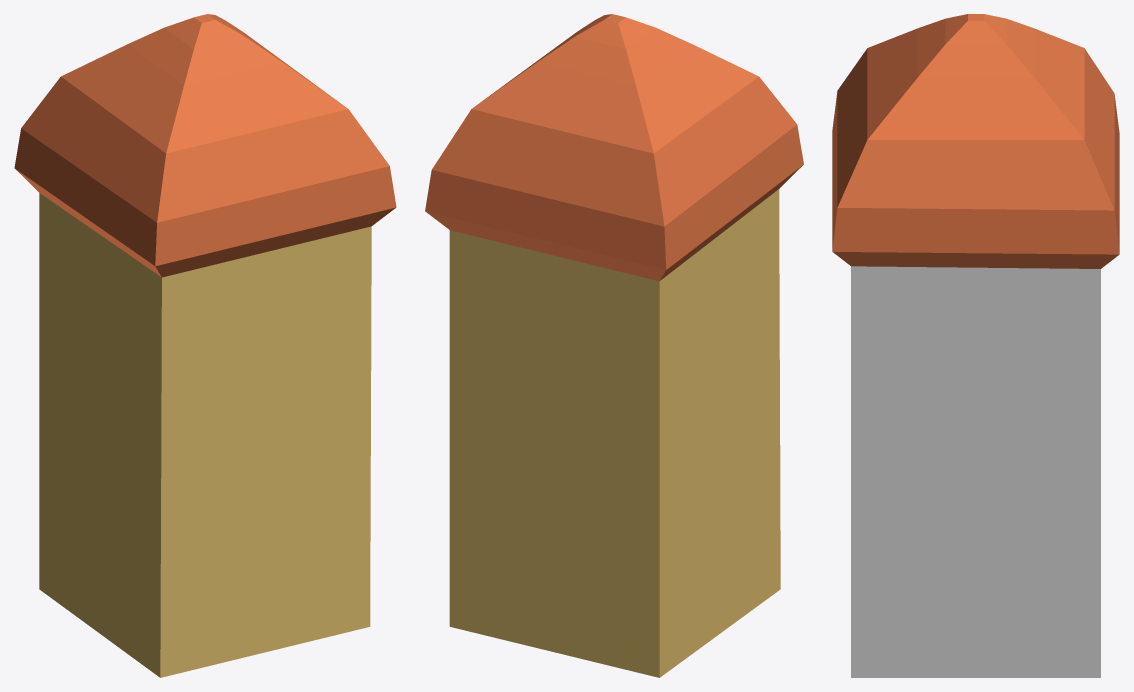
File: ZadkielHouse.fbx
3 views of the same model, side by side, from view 1: azimuth 30°, elevation 25°; view 2: azimuth 150°, elevation 25°; view 3: azimuth 270°, elevation 25° (orthographic). The views are drawn at different scales.
Visible parts, largest first — view 1: Cube; view 2: Cube; view 3: Cube.
Part boxes in pixels (x1,y1,x2,y2): Cube: (14,14,396,677); Cube: (425,14,803,677); Cube: (832,14,1119,677).
Size of the model in its own units: 347 by 806 by 345.
